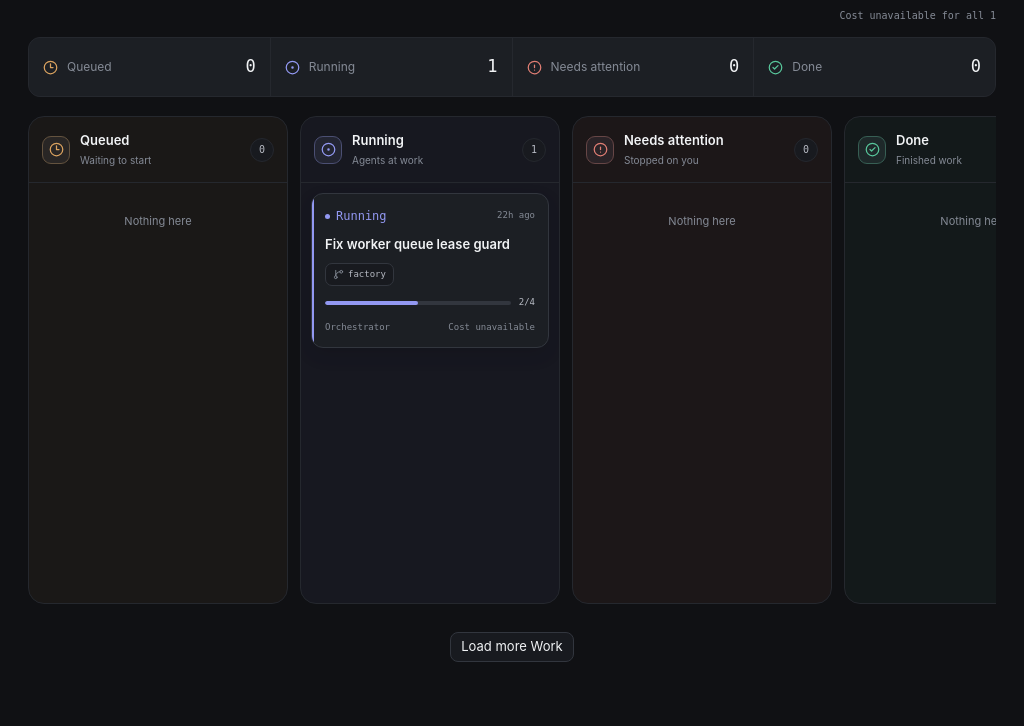
Test: Work board › loads more Work one bounded page at a time
This screenshot has width=1024, height=726.
(page scrolled)
What coordinates should you click on to do the following:
click the button "Load more Work"
I would click on:
 (512, 647)
Its box is [450,632,574,662].
(page scrolled)
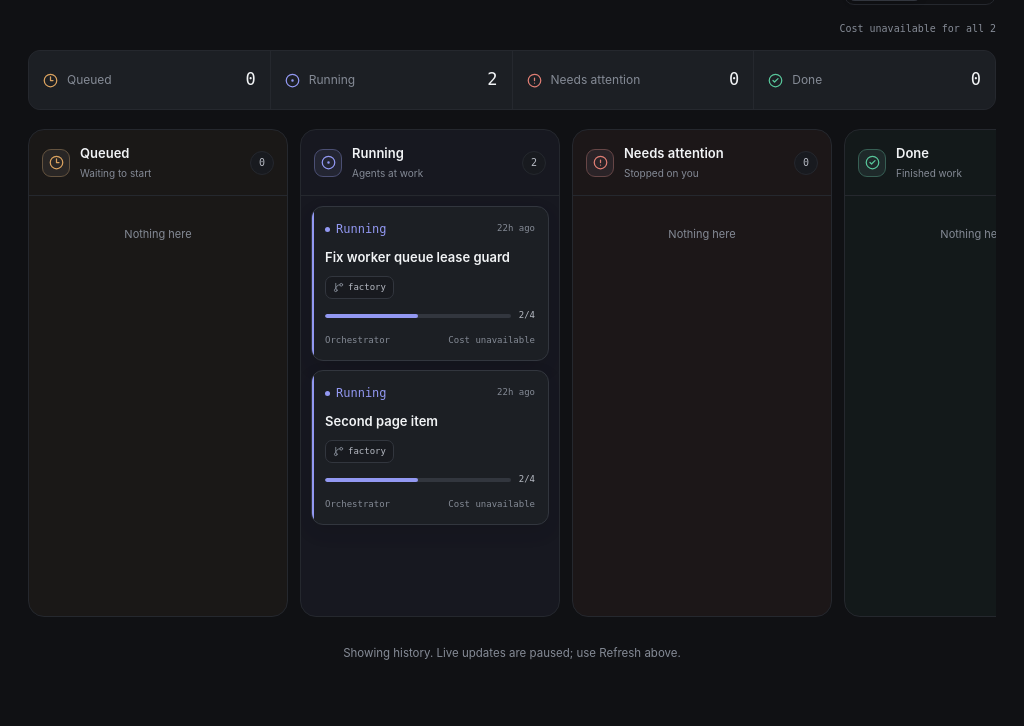
Expected: the button "Second page item" is shown, [311,370,549,525]
